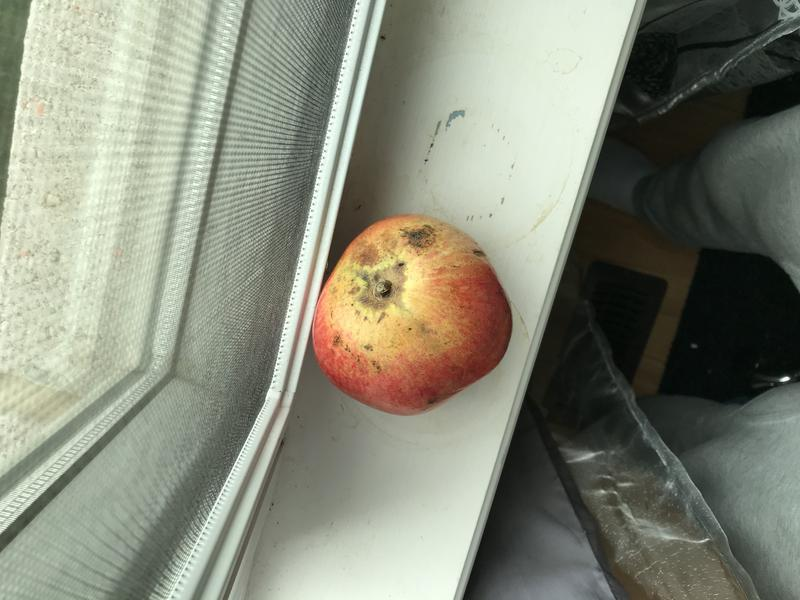pomegranate: (294, 208, 525, 425)
